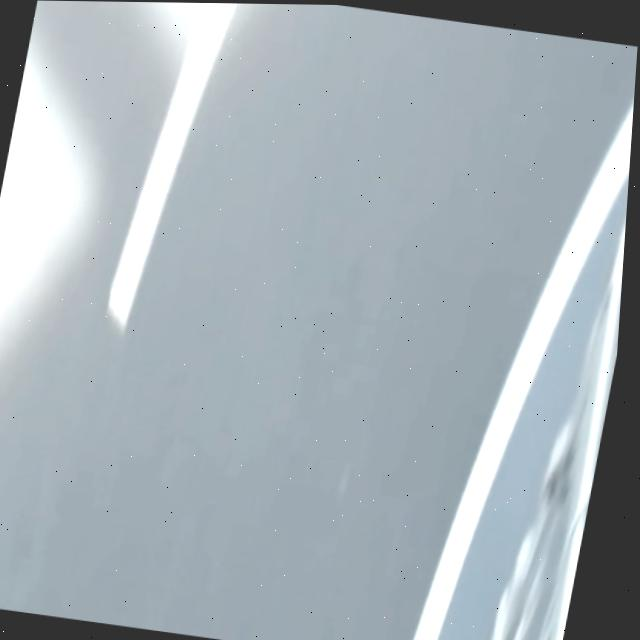center: (108, 3, 237, 330)
left: (415, 102, 634, 640)
